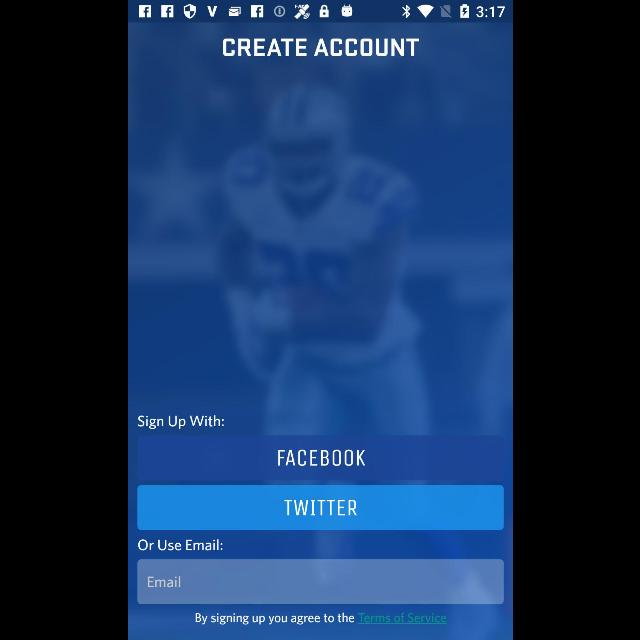text: (222, 39, 418, 57), (195, 613, 447, 625), (136, 415, 224, 429), (138, 538, 222, 552)
textbutton: (136, 560, 504, 604), (136, 436, 504, 480), (137, 486, 503, 530)
uppertaskbar: (128, 1, 512, 23)
